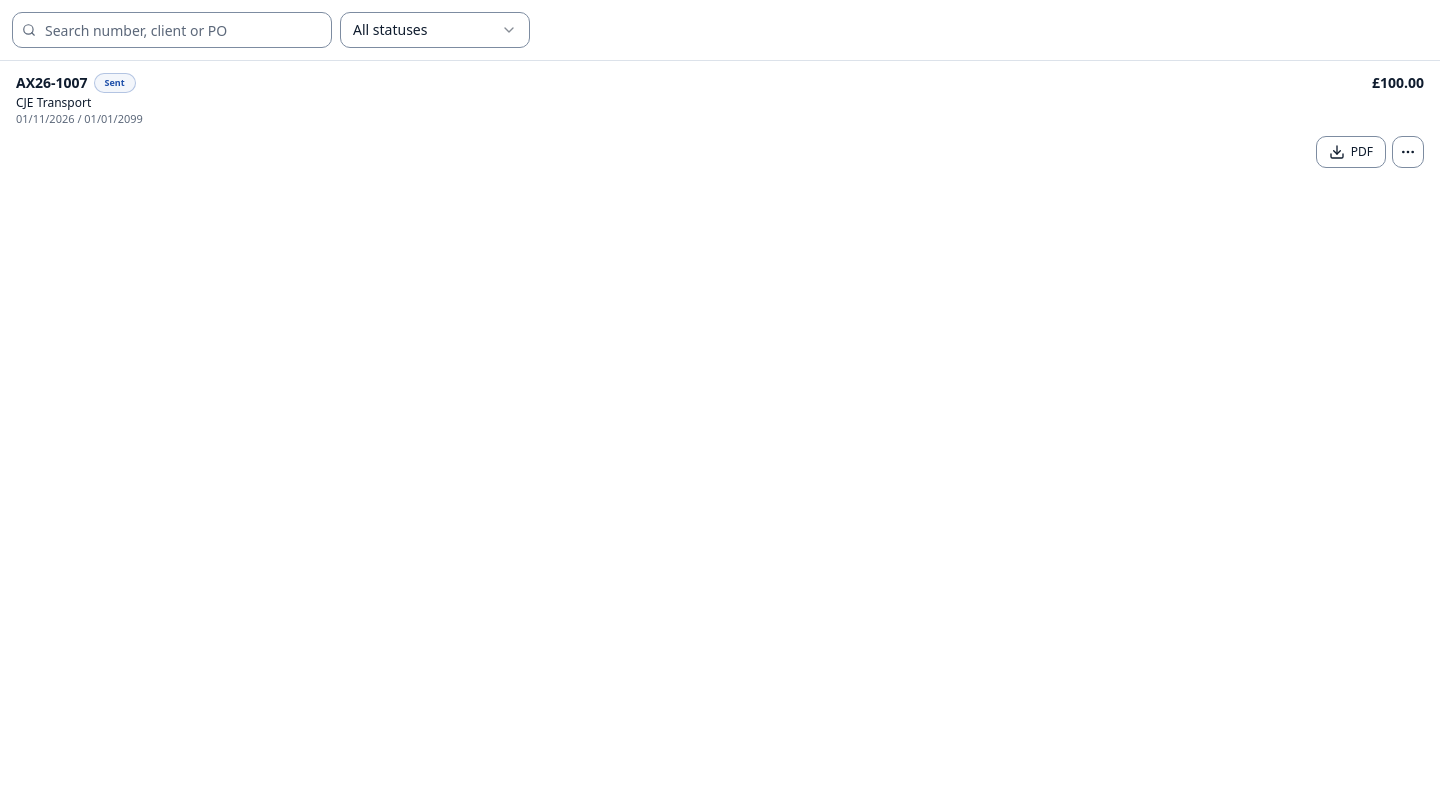
Scenario: invoice actions › records a payment with the entered date, method and reference
Press Enter in the button named "More actions for AX26-1007", box [1392, 136, 1424, 168]
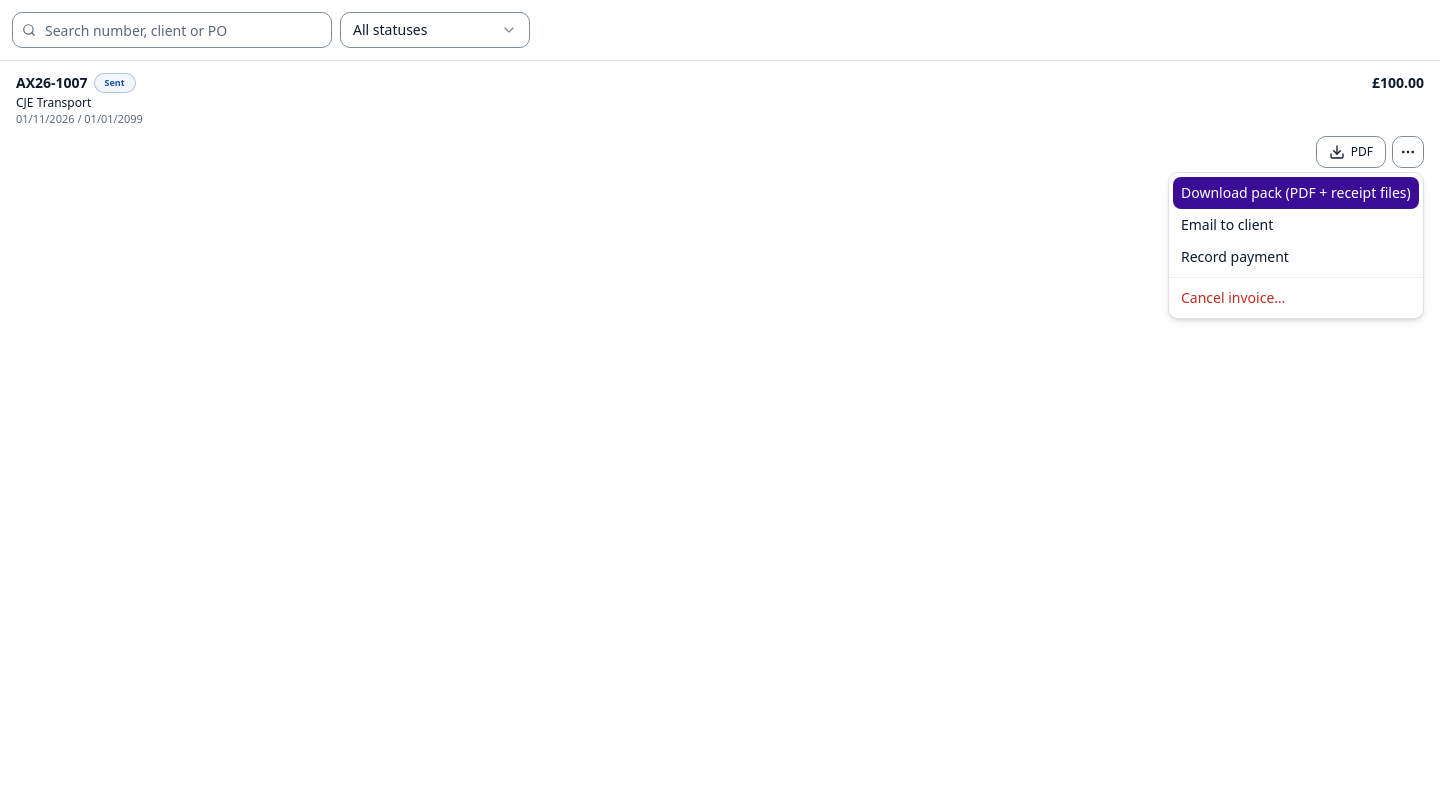
Click the menu item "Record payment": (1235, 256) [1181, 247, 1289, 266]
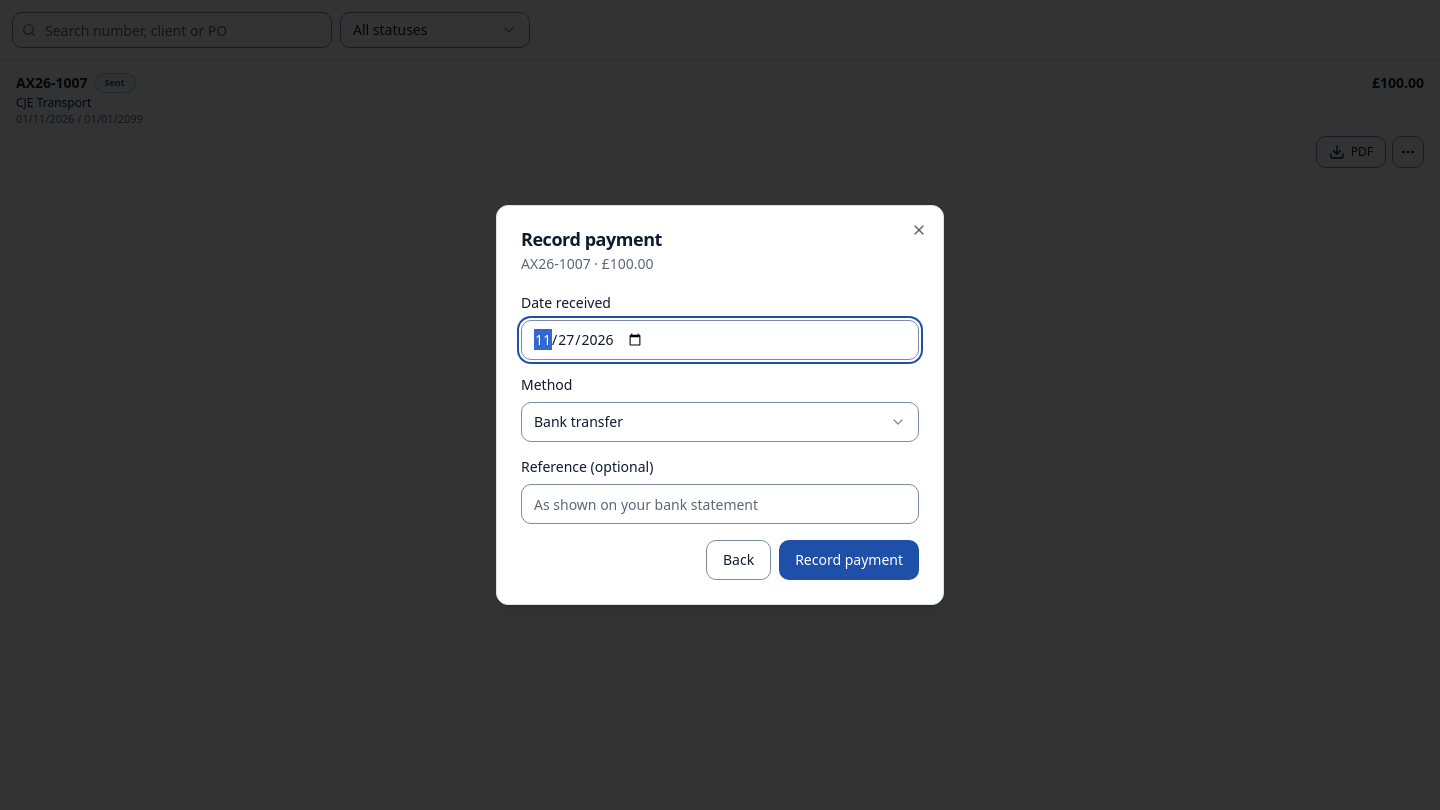
In the date field labelled "Date received": (720, 340) [521, 320, 919, 360], type "2026-11-20"
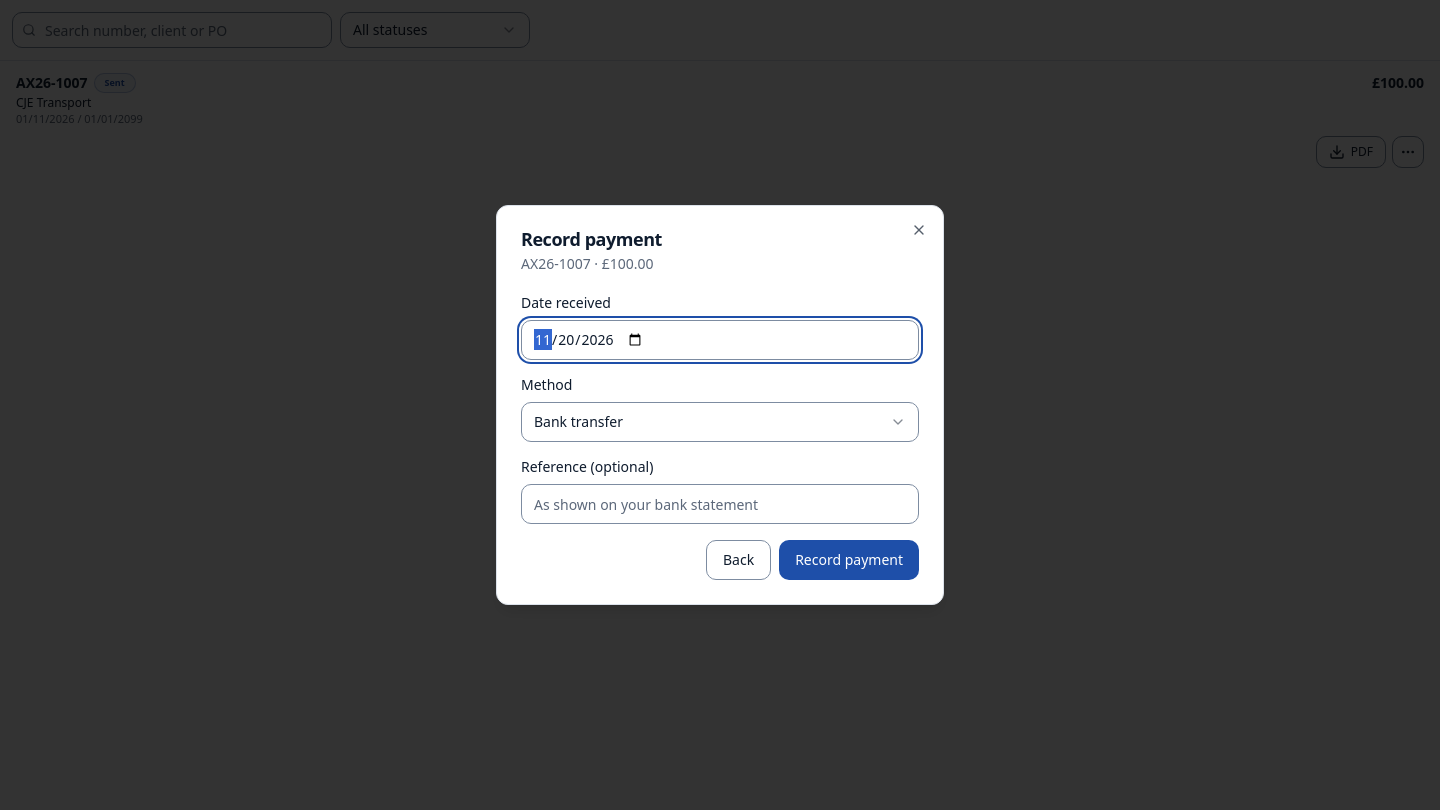
In the field labelled "Reference (optional)": (720, 504) [521, 484, 919, 524], type "FPS 123"
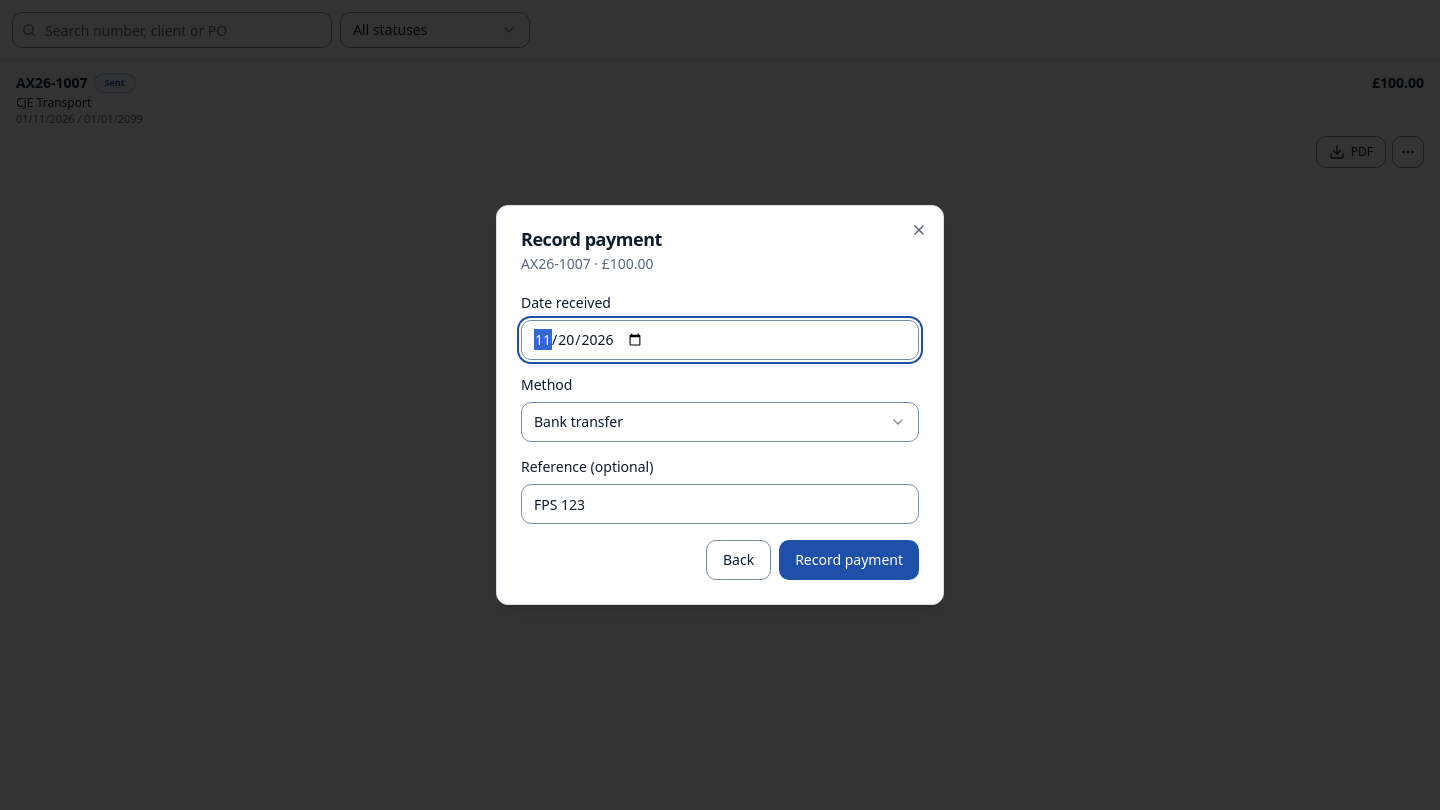
Click the button "Record payment": (849, 560) [779, 540, 919, 580]
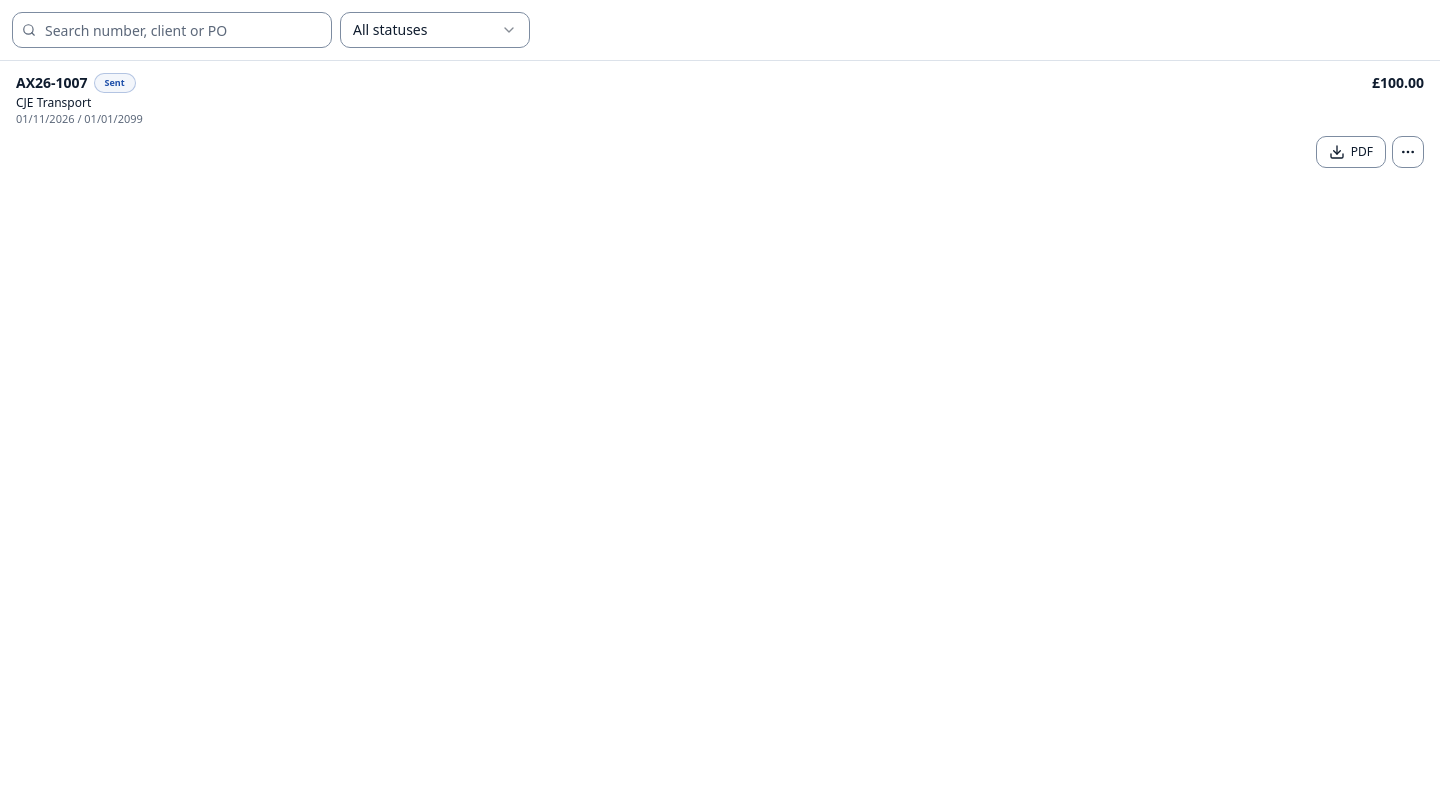
Expected: the dialog is gone
